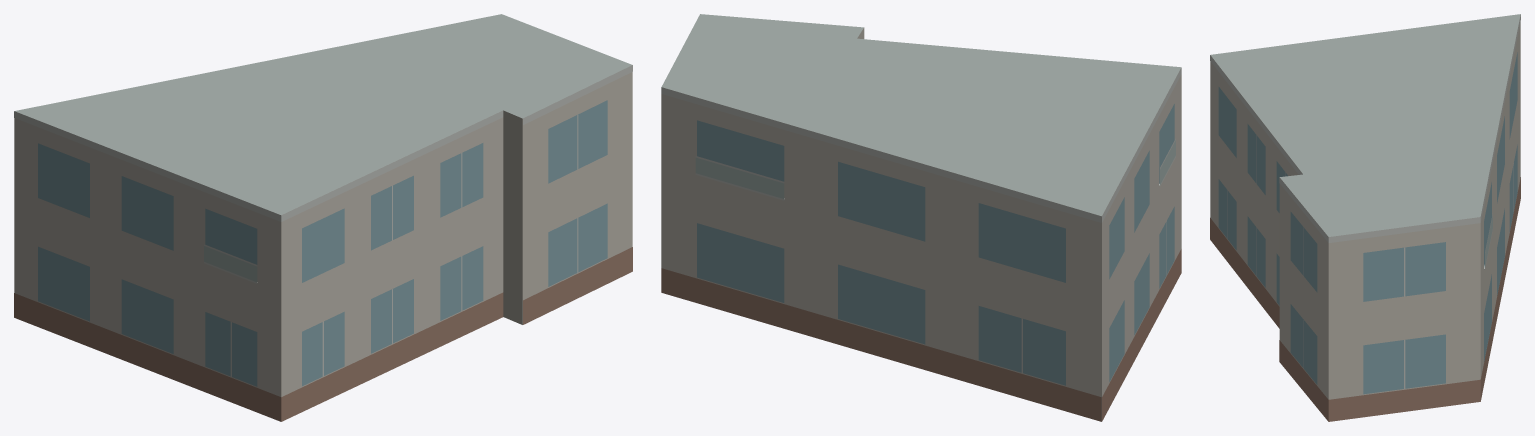
Rendered from survey-upis-32912736.glb.
3 renders of one model, left to right at view 1: azimuth 30°, elevation 25°; view 2: azimuth 150°, elevation 25°; view 3: azimuth 270°, elevation 25°, orthographic. The views are drawn at different scales.
Parts seen in each view (by area): view 1: survey-upis-32912736.tmp; view 2: survey-upis-32912736.tmp; view 3: survey-upis-32912736.tmp.
Boxes of the visible parts, x1,y1,x2,y2 form: survey-upis-32912736.tmp: [14, 14, 632, 421]; survey-upis-32912736.tmp: [661, 14, 1181, 421]; survey-upis-32912736.tmp: [1210, 14, 1520, 421].
Size of the model in its own units: 19.17 by 7.4 by 11.28.
